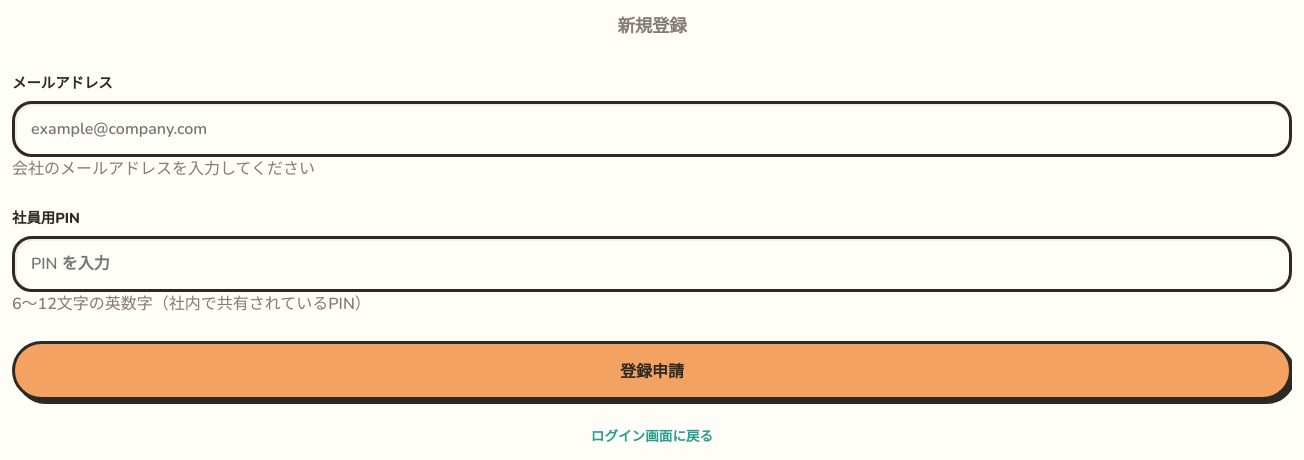
Test case: SignupPage › バリデーション › 不正なメール形式でsubmitするとバリデーションエラーが表示される
Step 1. Type "invalid" into the field labelled "メールアドレス" → (652,129), box [12,101,1292,157]
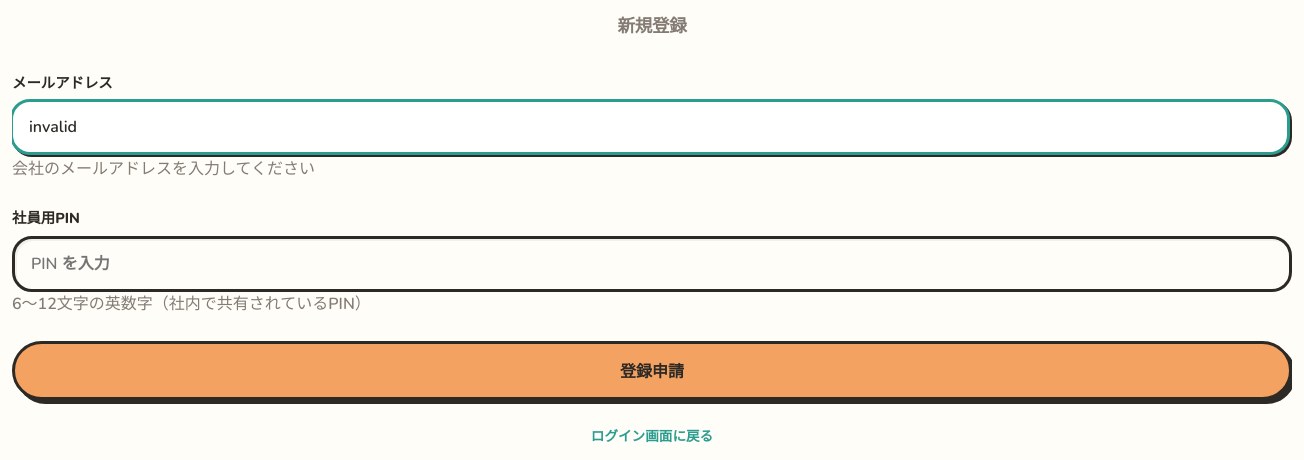
Step 2. Type "abc123" into the field labelled "社員用PIN" → (652,264), box [12,236,1292,292]
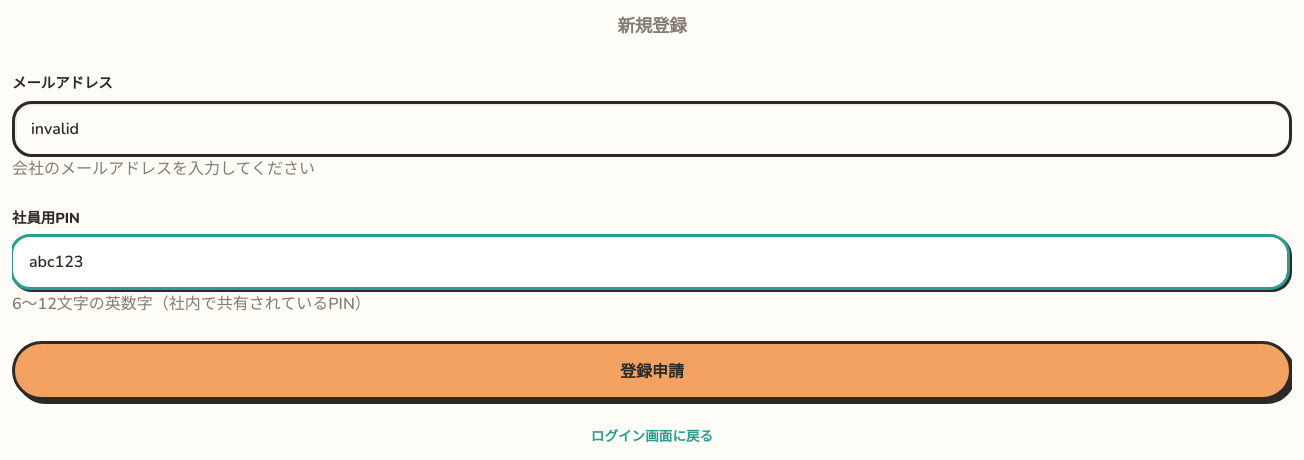
Step 3. Click the button "登録申請" → (652,371), box [12,341,1292,400]
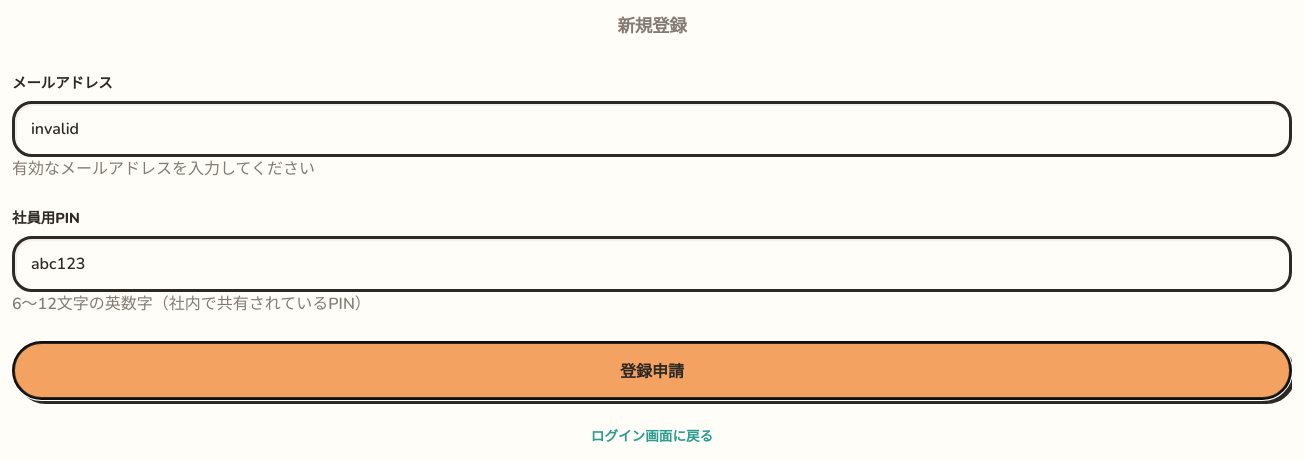
expect the text "有効なメールアドレスを入力してください" is shown: met, box [12,158,315,180]
